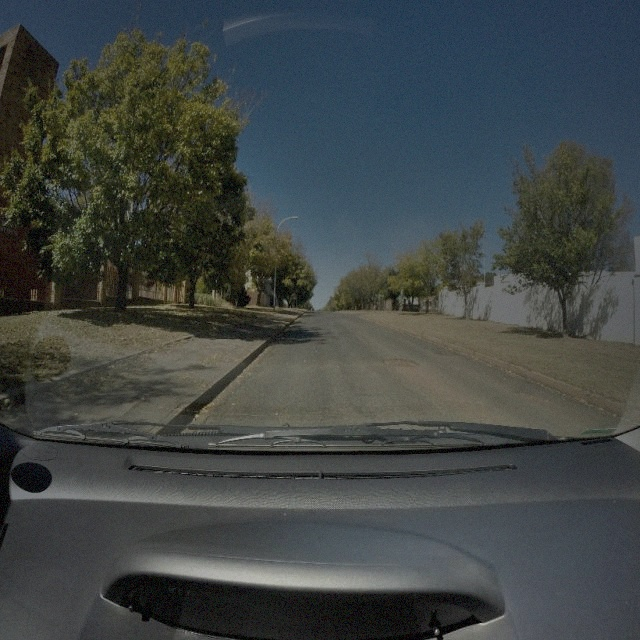pothole: (380, 350, 418, 368)
